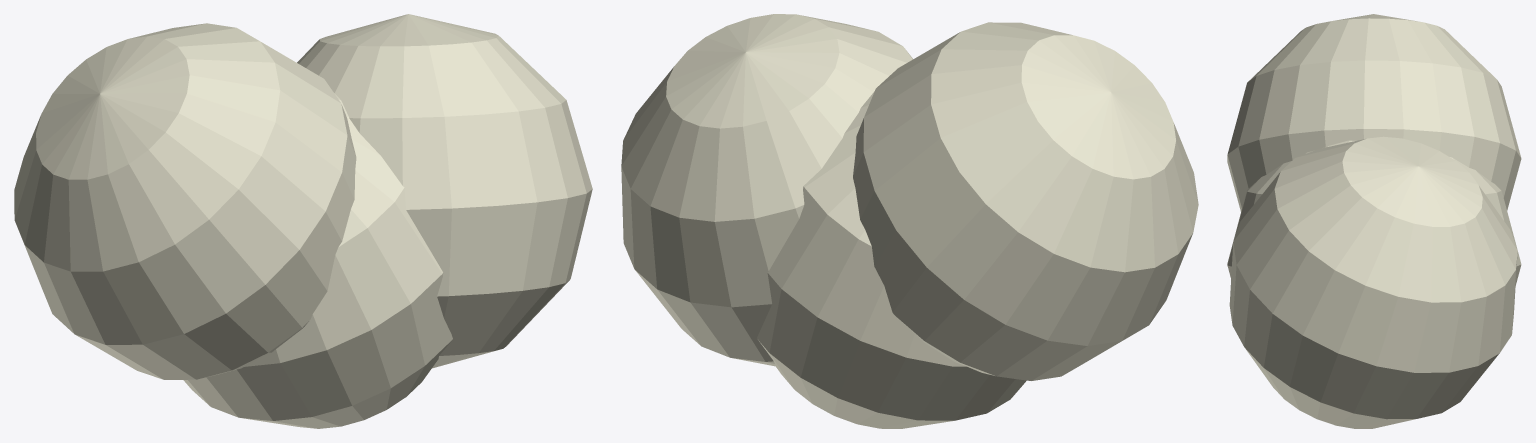
Rendered from Popcorn.fbx.
3 renders of one model, left to right at view 1: azimuth 30°, elevation 25°; view 2: azimuth 150°, elevation 25°; view 3: azimuth 270°, elevation 25°, orthographic. The views are drawn at different scales.
Parts seen in each view (by area): view 1: Sphere.001, Sphere.002, Sphere; view 2: Sphere.001, Sphere.002, Sphere; view 3: Sphere.002, Sphere.001, Sphere.
Boxes of the visible parts, x1,y1,x2,y2 form: Sphere.001: [14, 23, 356, 379]; Sphere.002: [297, 14, 592, 368]; Sphere: [183, 93, 452, 428]; Sphere.001: [853, 22, 1198, 380]; Sphere.002: [621, 14, 912, 366]; Sphere: [757, 91, 1026, 428]; Sphere.002: [1229, 136, 1517, 428]; Sphere.001: [1227, 14, 1521, 211]; Sphere: [1227, 140, 1521, 285].
Bounding box in the file's own units: 138 × 99.69 × 81.1.
